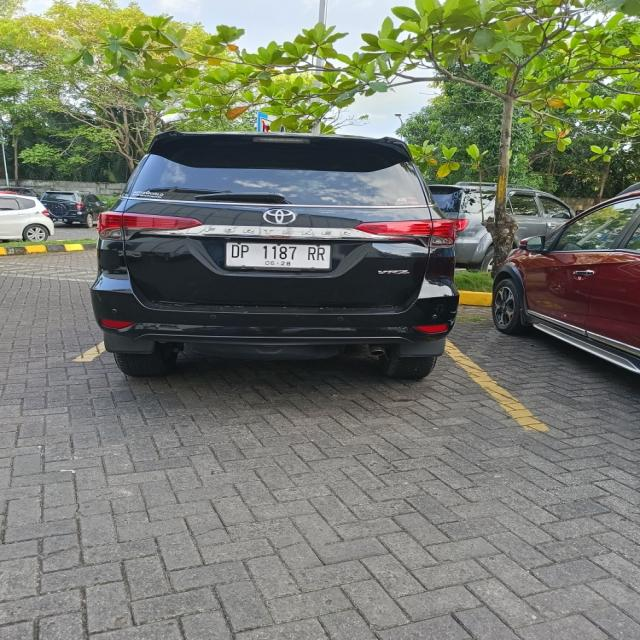plates: (222, 237, 335, 272)
